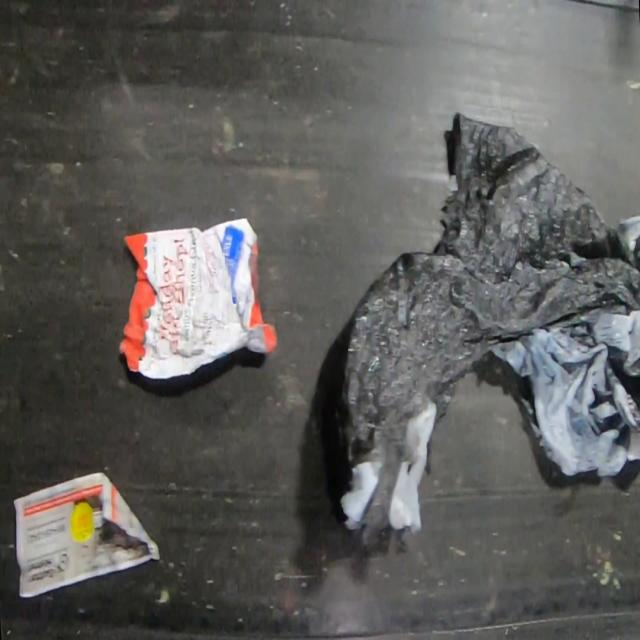soft_plastic: (336, 113, 639, 534)
